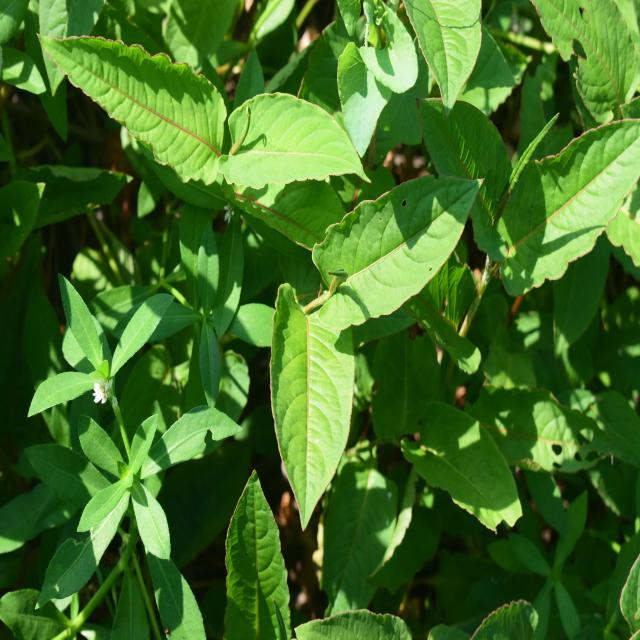Chinese_knotweed: (46, 24, 404, 215), (261, 173, 472, 467)
